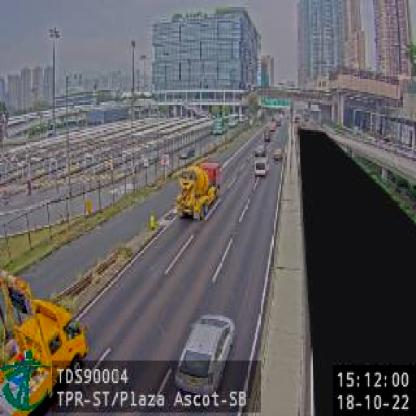Car: (172, 313, 235, 404), (272, 148, 284, 162)
Truck: (1, 267, 87, 415), (175, 157, 224, 223), (256, 156, 270, 179)
